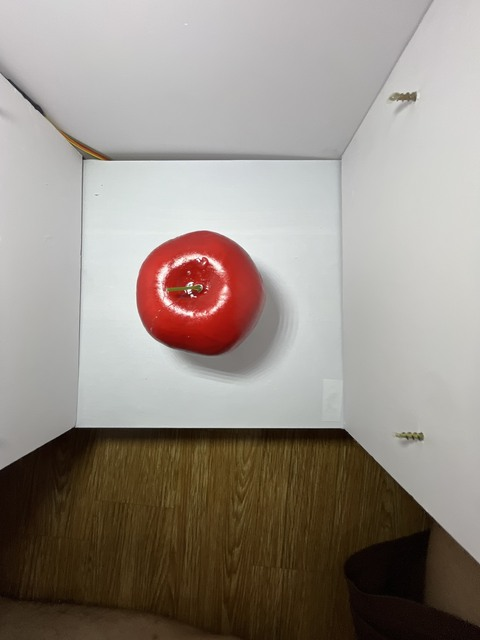Tao: (133, 226, 266, 364)
